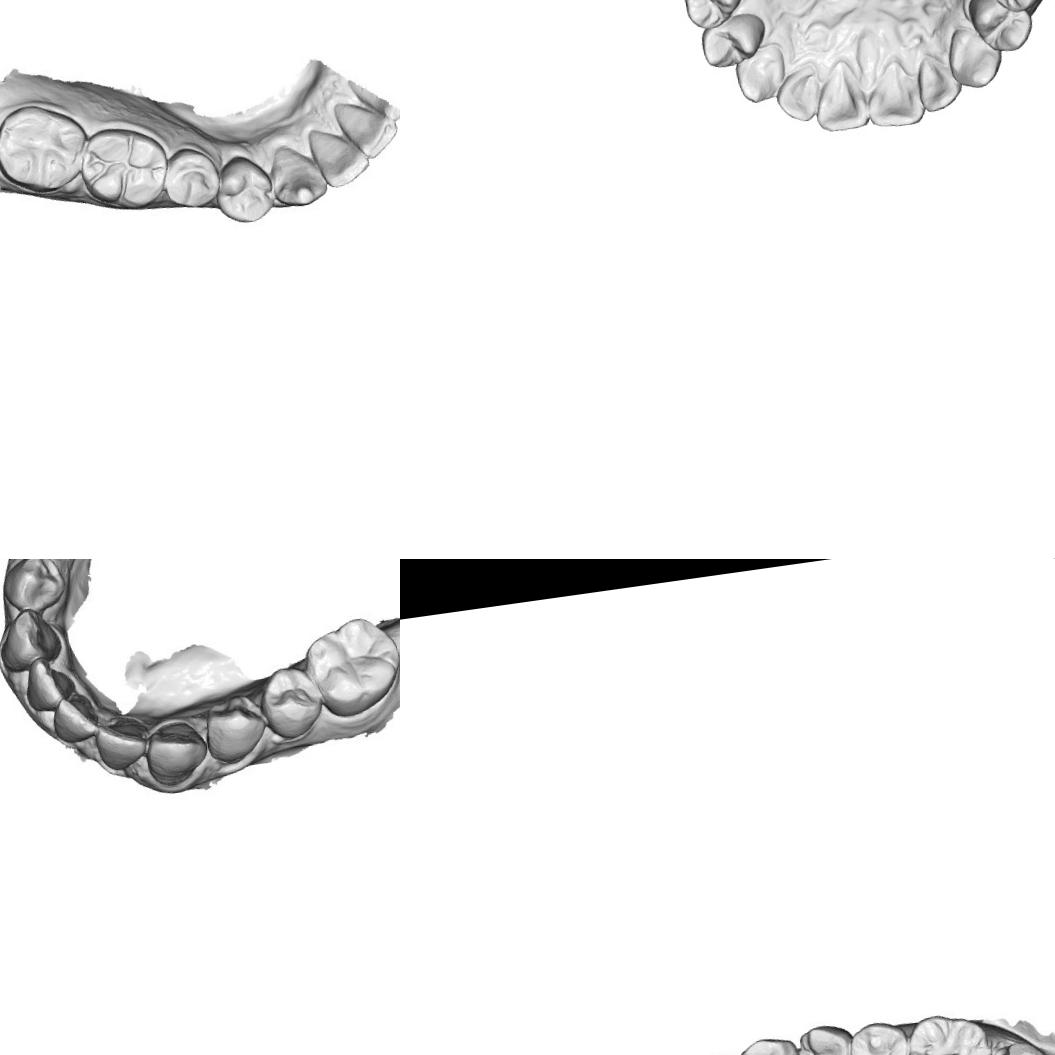canine: (138, 709, 214, 791), (268, 140, 338, 214), (944, 19, 1006, 94), (0, 605, 62, 674), (730, 39, 792, 106), (738, 1033, 805, 1055)
crown: (987, 1035, 1055, 1055)
incisor: (859, 56, 926, 133), (808, 56, 871, 136), (311, 117, 373, 186), (90, 707, 152, 774), (335, 95, 399, 158), (912, 48, 964, 115), (22, 655, 78, 717), (772, 64, 826, 126), (47, 690, 104, 747)
molar: (302, 612, 400, 722), (75, 118, 170, 212), (0, 99, 89, 197), (901, 1006, 998, 1055)
premolar: (202, 689, 274, 765), (212, 148, 277, 229), (263, 664, 327, 742), (696, 9, 772, 72), (160, 144, 223, 214), (0, 559, 70, 619), (964, 0, 1036, 57), (846, 1018, 916, 1055), (790, 1020, 861, 1055), (679, 0, 753, 33), (975, 0, 1046, 17)
